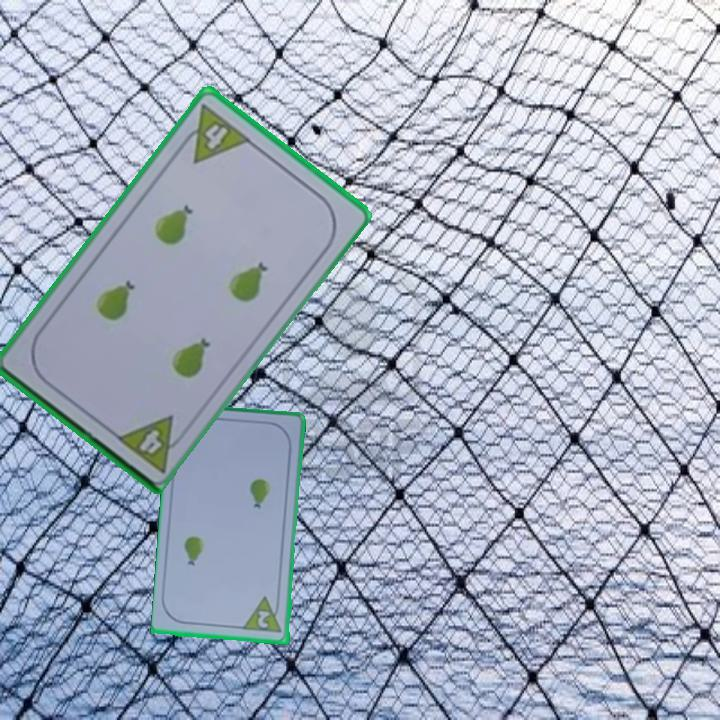2p: (241, 594, 285, 636)
4p: (173, 100, 253, 166), (112, 411, 191, 475)
